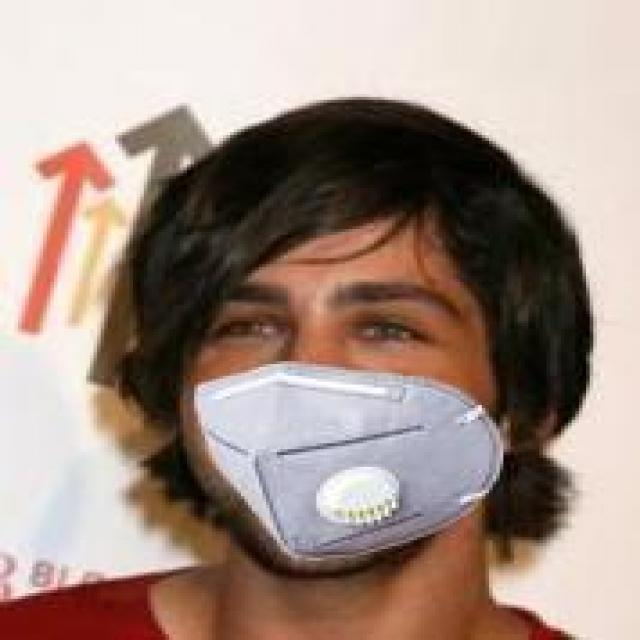mask: (151, 97, 561, 572)
